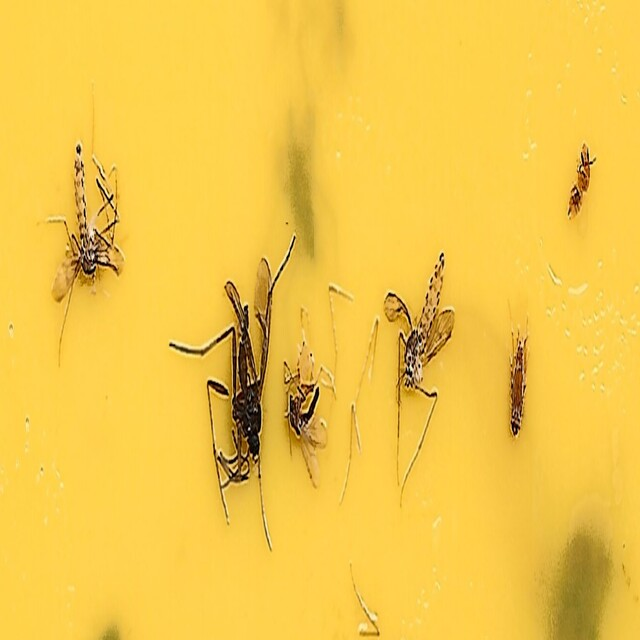Isoptera: (563, 133, 593, 228)
Nematocera: (169, 250, 272, 507), (47, 142, 126, 306), (382, 254, 455, 401), (282, 352, 322, 444)
